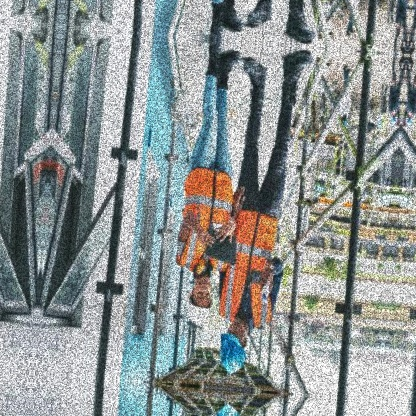blue: (215, 328, 252, 374)
vest: (211, 208, 284, 325), (169, 164, 239, 277)
white: (182, 294, 218, 328)
